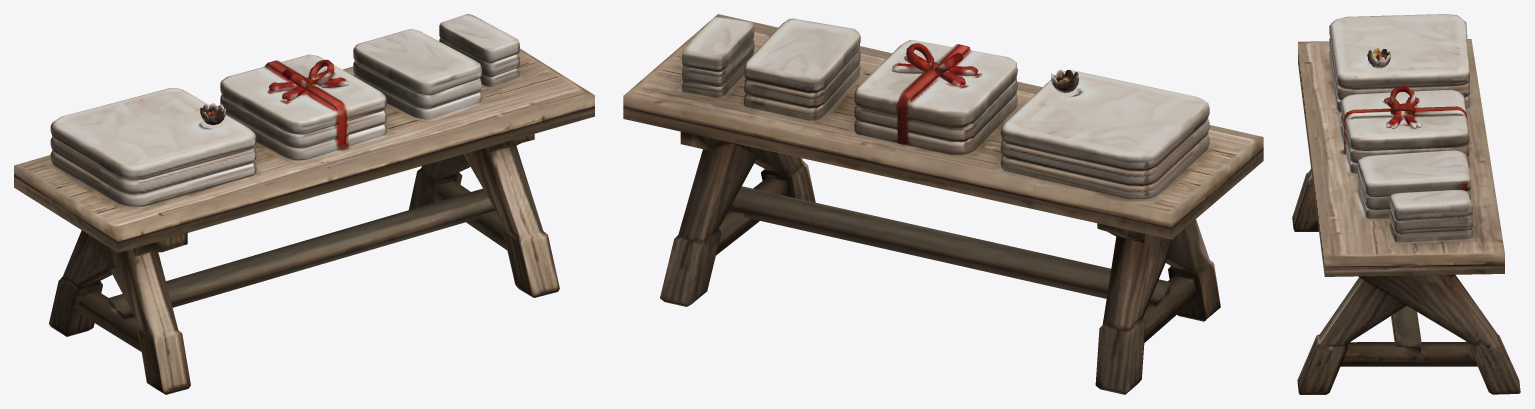
The model's file is act1_kit_v1_linen_folding_table.glb.
3 renders of one model, left to right at view 1: azimuth 30°, elevation 25°; view 2: azimuth 150°, elevation 25°; view 3: azimuth 270°, elevation 25°, orthographic. The views are drawn at different scales.
Visible parts, largest first — view 1: act1_kit_v1_linen_folding_table; view 2: act1_kit_v1_linen_folding_table; view 3: act1_kit_v1_linen_folding_table.
Part boxes in pixels (x1=…): act1_kit_v1_linen_folding_table: x1=14, y1=14, x2=594, y2=394; act1_kit_v1_linen_folding_table: x1=623, y1=14, x2=1263, y2=394; act1_kit_v1_linen_folding_table: x1=1292, y1=14, x2=1520, y2=394.
Size of the model in its own units: 1 by 0.4546 by 0.4299.
Materials: 1 (1 with a texture image).
